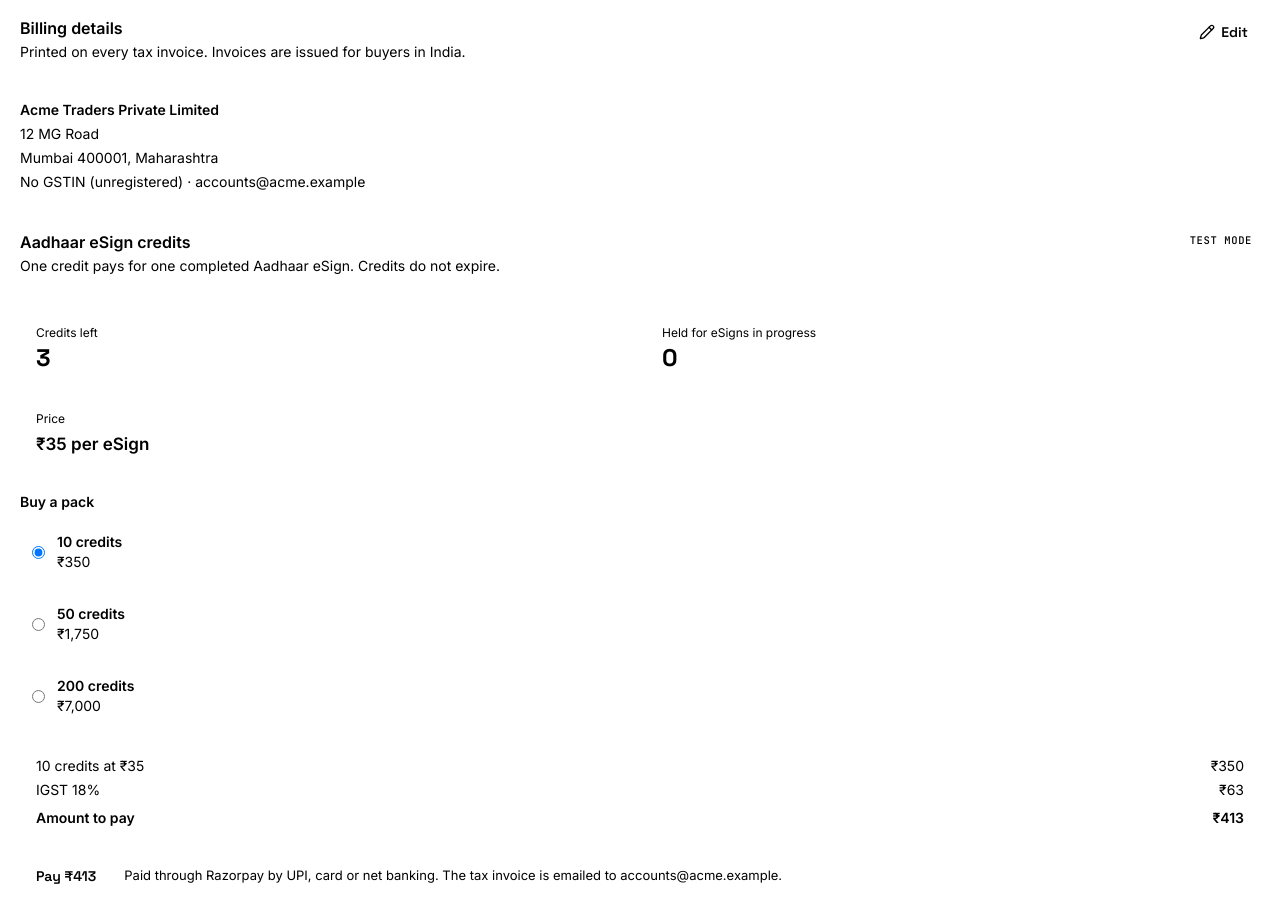
BillingPanel › pays through checkout and trusts only the server for the result
Click the button with test id "buy-credits" at coordinates (66, 876), box [20,856,112,896]
(page scrolled)
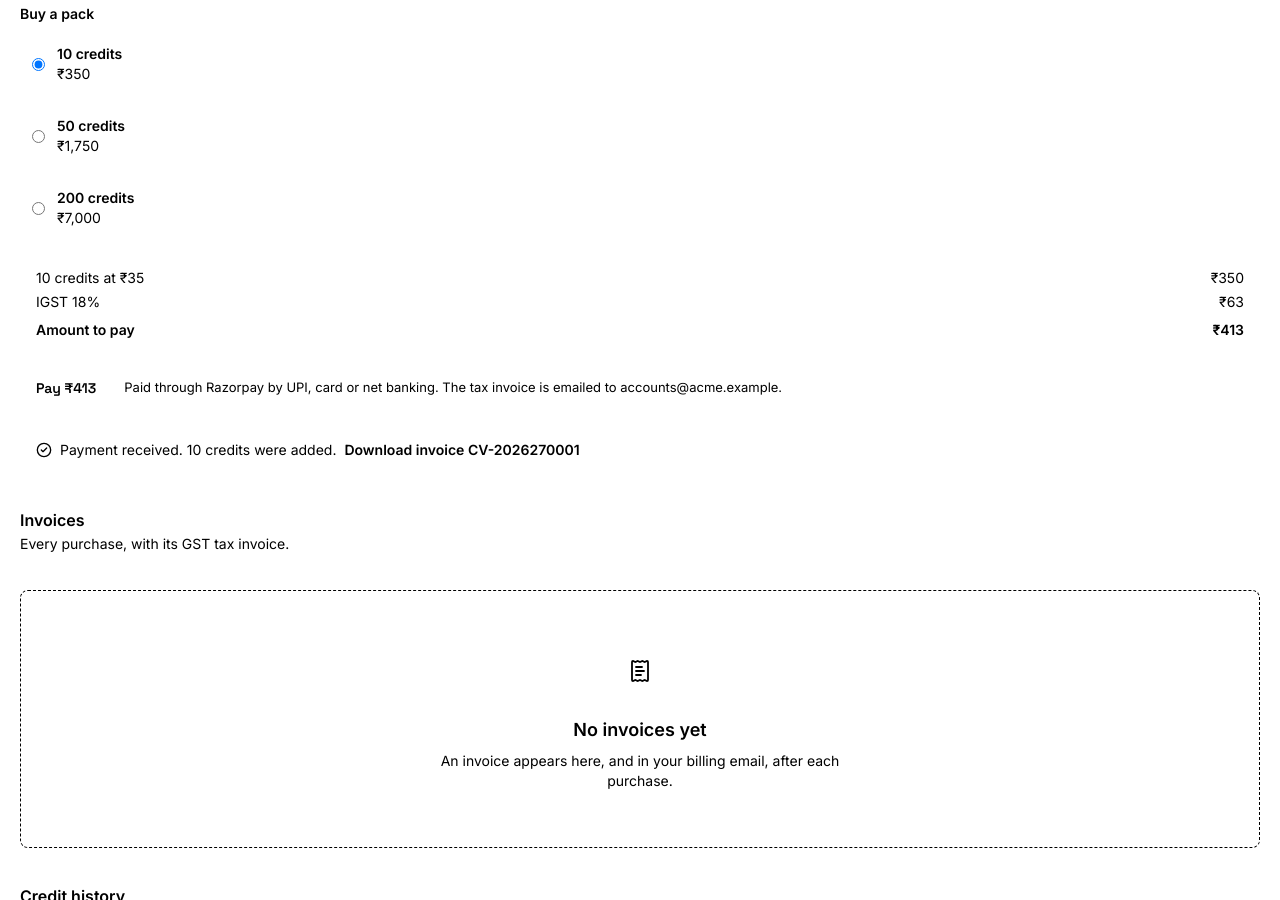
Check: the message "Payment received. 10 credits were added. Download invoice CV-2026270001" is shown, box [36,441,580,458]
